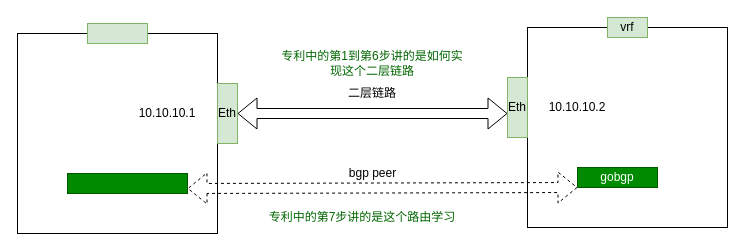
This 745x251 diagram has some shape labels left out. The shapes that lost their labels are listed below. From the top down, each one's centre as x and y in pixels, then its label:
the point at 117,33: vbr
the point at 127,183: 公有云内部的bgp实例
